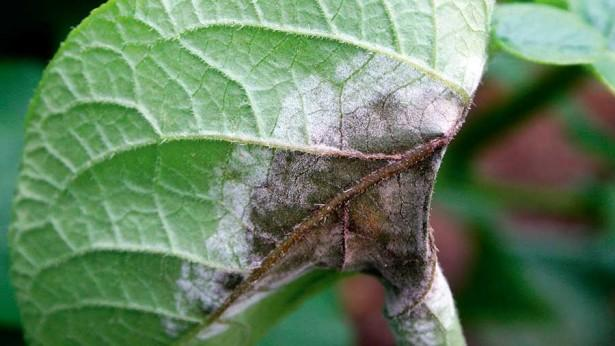Potato leaf late blight: (13, 1, 498, 346)
